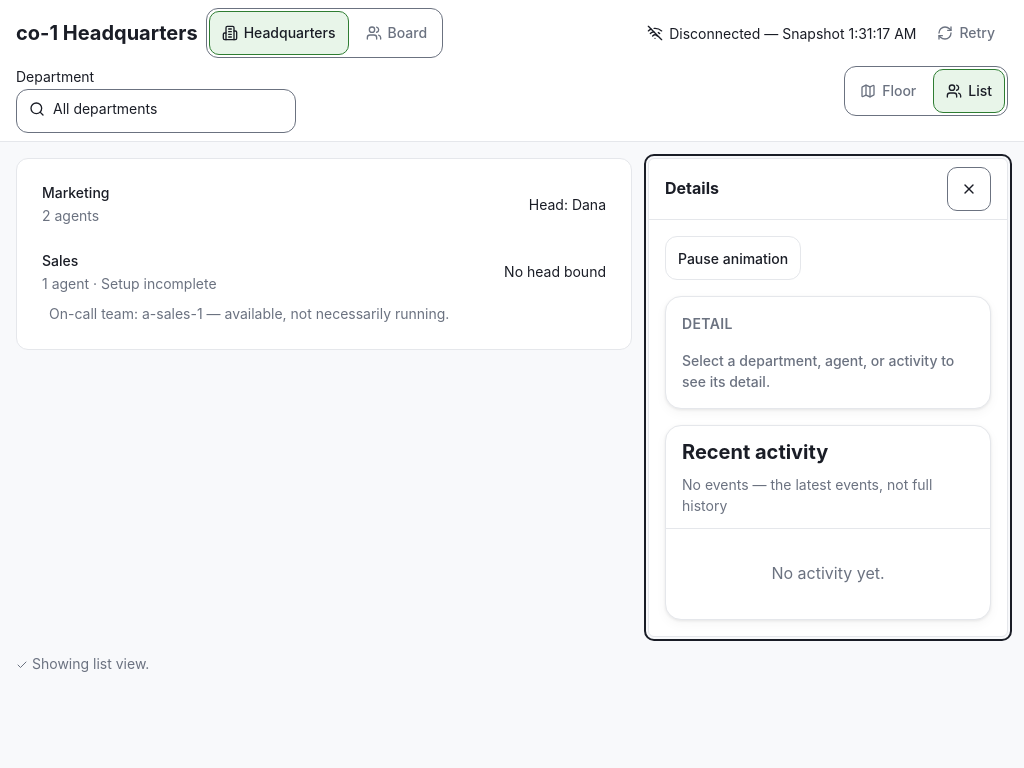
Test: A02 assembly — real components composed from one authorized snapshot › defaults a phone viewport to List with Floor still available (S11)
Check: the element with test id "hq-view-tabs" is shown, box [844,66,1008,116]
Check: the element with test id "hq-list" that starts with "Marketing" is shown, box [16,158,632,350]
Click the tab with test id "hq-view-tab-floor": click(888, 91) [847,69,929,113]
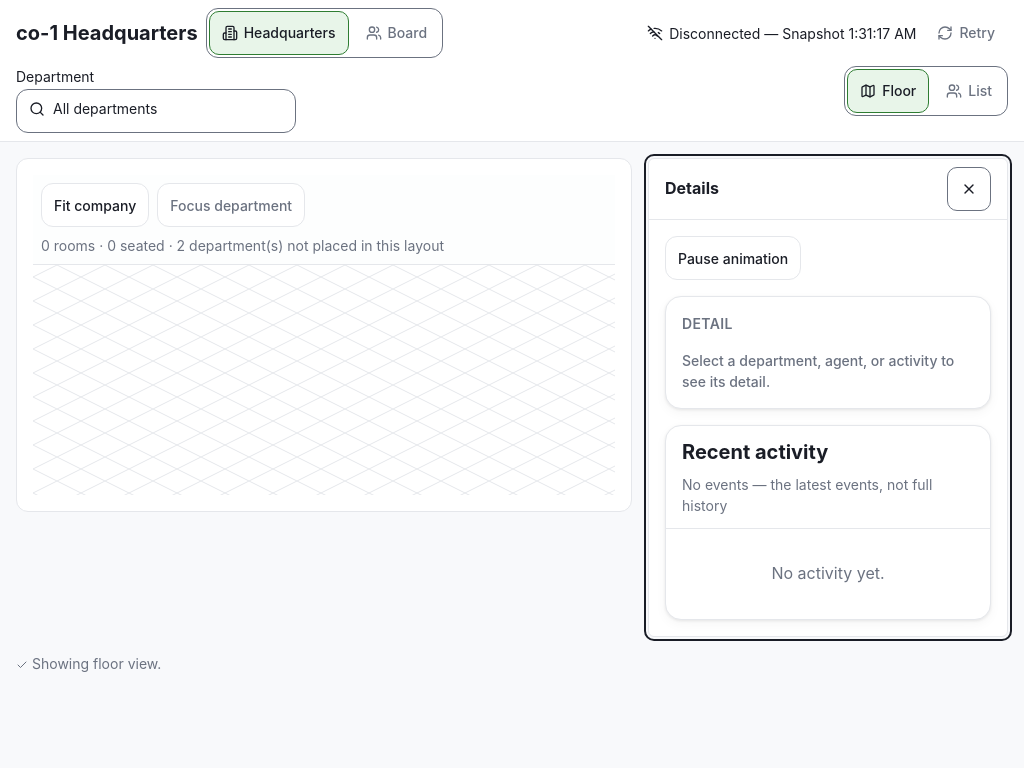
Check: the element with test id "hq-floor-slot" is shown, box [16,158,632,512]
